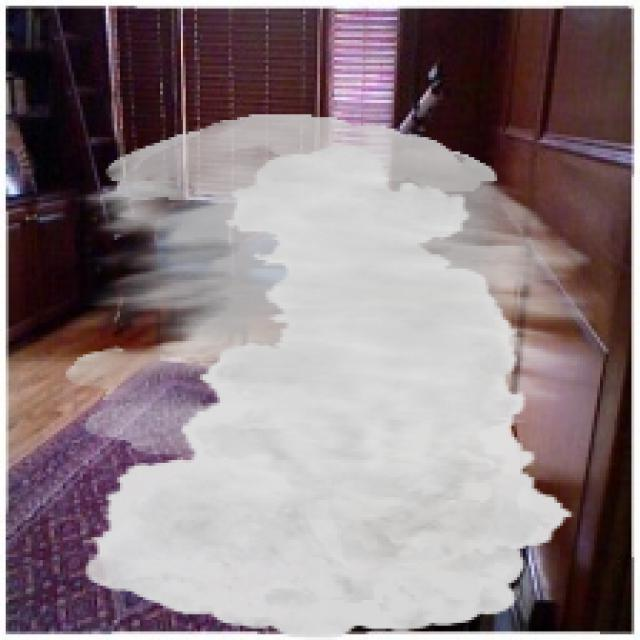Smoke: (65, 114, 598, 637)
